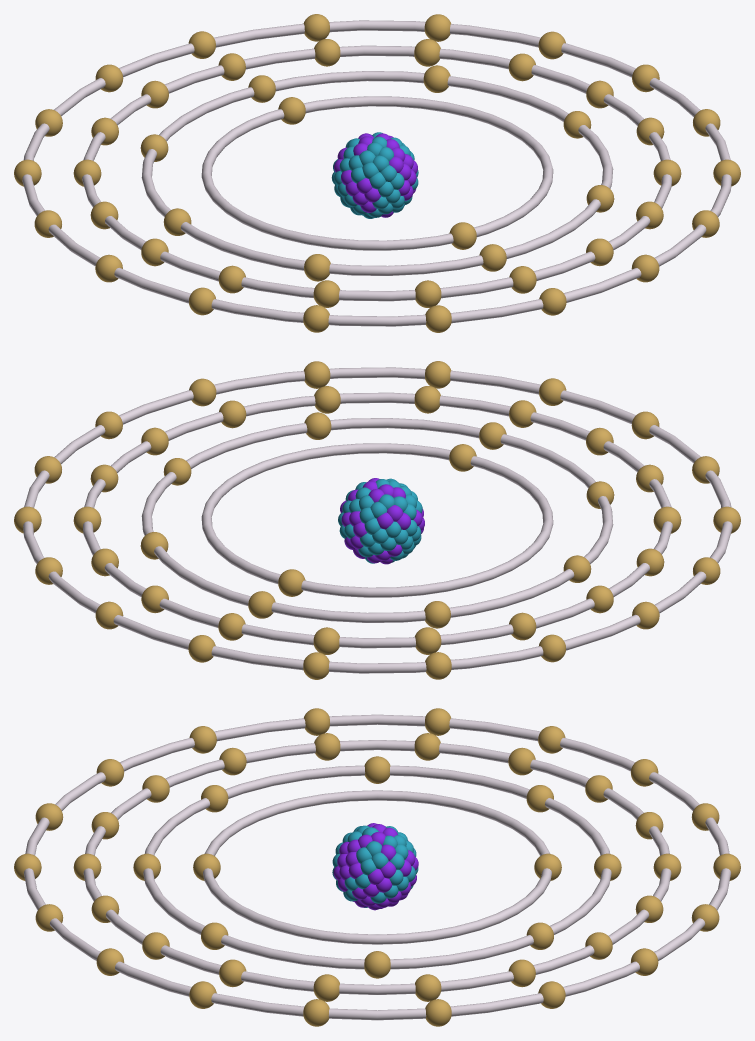
The model's file is paladio.glb.
3 views of the same model, one above another, from view 1: azimuth 30°, elevation 25°; view 2: azimuth 150°, elevation 25°; view 3: azimuth 270°, elevation 25° (orthographic).
Parts seen in each view (by area): view 1: Orbita_4, Orbita_3, Orbita_2, Orbita_1, Nucleo_Completo, Eletron_C3_18, Eletron_C4_18, Eletron_C3_8, Eletron_C2_8, Eletron_C3_9, Eletron_C3_17, Eletron_C4_17 (+30 smaller); view 2: Orbita_4, Orbita_3, Orbita_2, Orbita_1, Nucleo_Completo, Eletron_C3_11, Eletron_C4_11, Eletron_C3_3, Eletron_C2_6, Eletron_C3_2, Eletron_C3_12, Eletron_C4_12 (+30 smaller); view 3: Orbita_4, Orbita_3, Orbita_2, Orbita_1, Nucleo_Completo, Eletron_C2_3, Eletron_C3_5, Eletron_C3_6, Eletron_C4_5, Eletron_C4_6, Eletron_C2_7, Eletron_C3_14 (+29 smaller).
Part boxes in pixels (x1,y1,x2,y2): Orbita_4: (22,20,731,326); Orbita_3: (82,45,671,301); Orbita_2: (141,71,613,275); Orbita_1: (201,96,553,250); Nucleo_Completo: (331,132,418,218); Eletron_C3_18: (415,280,441,307); Eletron_C4_18: (425,305,451,332); Eletron_C3_8: (414,39,440,66); Eletron_C2_8: (304,254,330,281); Eletron_C3_9: (314,39,340,66); Eletron_C3_17: (313,280,340,307); Eletron_C4_17: (303,305,329,332); Orbita_4: (23,367,732,673); Orbita_3: (83,392,672,648); Orbita_2: (141,418,613,622); Orbita_1: (201,443,553,597); Nucleo_Completo: (338,478,424,564); Eletron_C3_11: (313,627,339,654); Eletron_C4_11: (303,652,329,679); Eletron_C3_3: (314,386,340,413); Eletron_C2_6: (424,601,450,628); Eletron_C3_2: (414,386,440,413); Eletron_C3_12: (414,627,441,654); Eletron_C4_12: (425,652,451,679); Orbita_4: (24,714,730,1020); Orbita_3: (83,740,671,994); Orbita_2: (143,765,611,969); Orbita_1: (203,790,551,944); Nucleo_Completo: (332,823,418,910); Eletron_C2_3: (364,951,390,978); Eletron_C3_5: (313,974,339,1001); Eletron_C3_6: (415,974,441,1001); Eletron_C4_5: (303,999,329,1026); Eletron_C4_6: (425,999,451,1026); Eletron_C2_7: (364,756,390,783); Eletron_C3_14: (414,733,440,760).
Bounding box in the file's own units: 4.2 × 0.5082 × 4.26.
